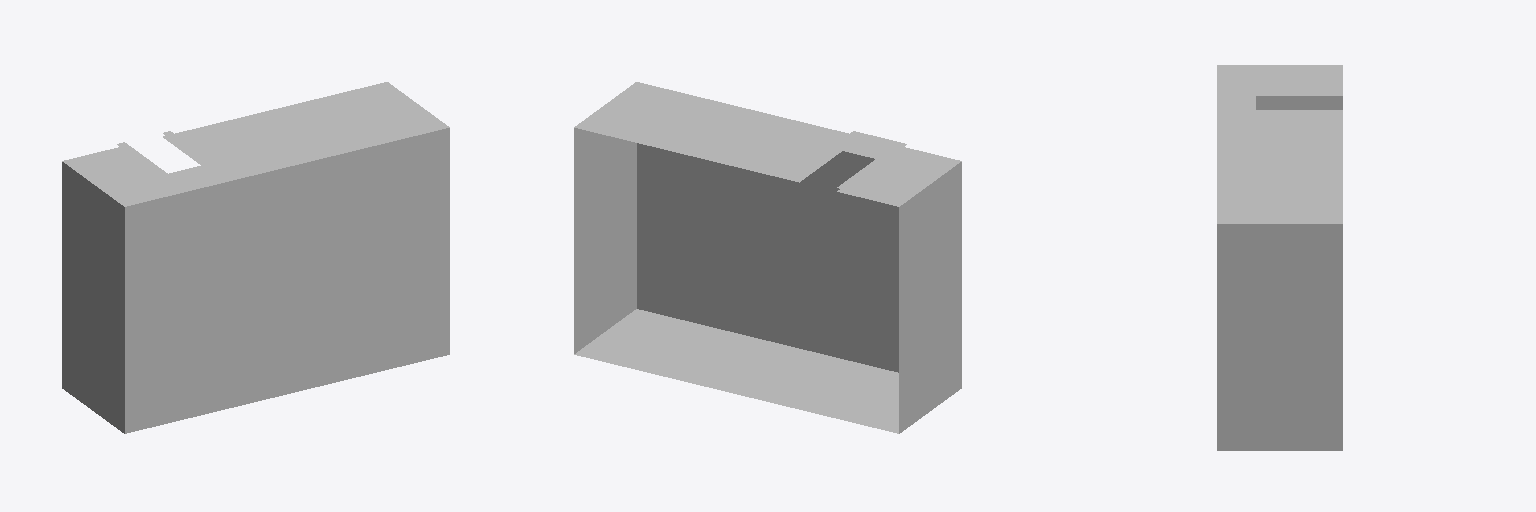
Rendered from meeting_room_large.obj.
3 renders of one model, left to right at view 1: azimuth 30°, elevation 25°; view 2: azimuth 150°, elevation 25°; view 3: azimuth 270°, elevation 25°, orthographic.
Visible parts, largest first — view 1: Meeting_Large; view 2: Meeting_Large; view 3: Meeting_Large.
Boxes of the visible parts, <box> form: Meeting_Large: <box>62,82,449,433</box>; Meeting_Large: <box>574,82,961,433</box>; Meeting_Large: <box>1217,65,1342,450</box>.
Bounding box in the file's own units: 900 × 610 × 300.